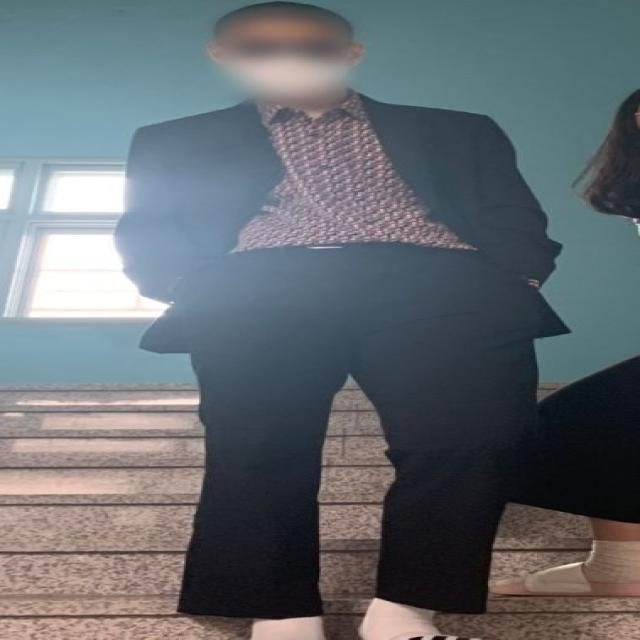blazer: (110, 90, 577, 347)
shirt: (209, 87, 480, 253)
slacks: (178, 238, 539, 619)
